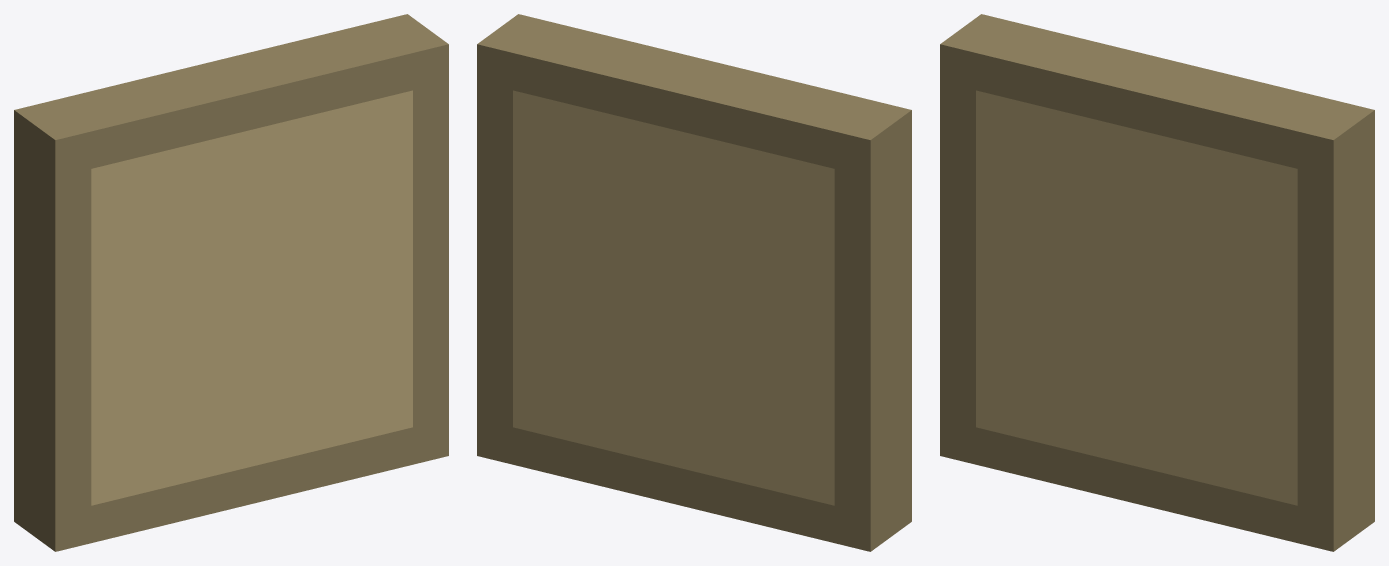
File: candelabro_pared_bronce_pulido_01.glb
3 renders of one model, left to right at view 1: azimuth 30°, elevation 25°; view 2: azimuth 150°, elevation 25°; view 3: azimuth 330°, elevation 25°, orthographic.
Parts seen in each view (by area): view 1: candelabro_pared_bronce_pulido; view 2: candelabro_pared_bronce_pulido; view 3: candelabro_pared_bronce_pulido.
Boxes of the visible parts, x1,y1,x2,y2 form: candelabro_pared_bronce_pulido: [14, 14, 448, 551]; candelabro_pared_bronce_pulido: [477, 14, 911, 551]; candelabro_pared_bronce_pulido: [940, 14, 1374, 551].
Bounding box in the file's own units: 1 × 1 × 0.1818.
